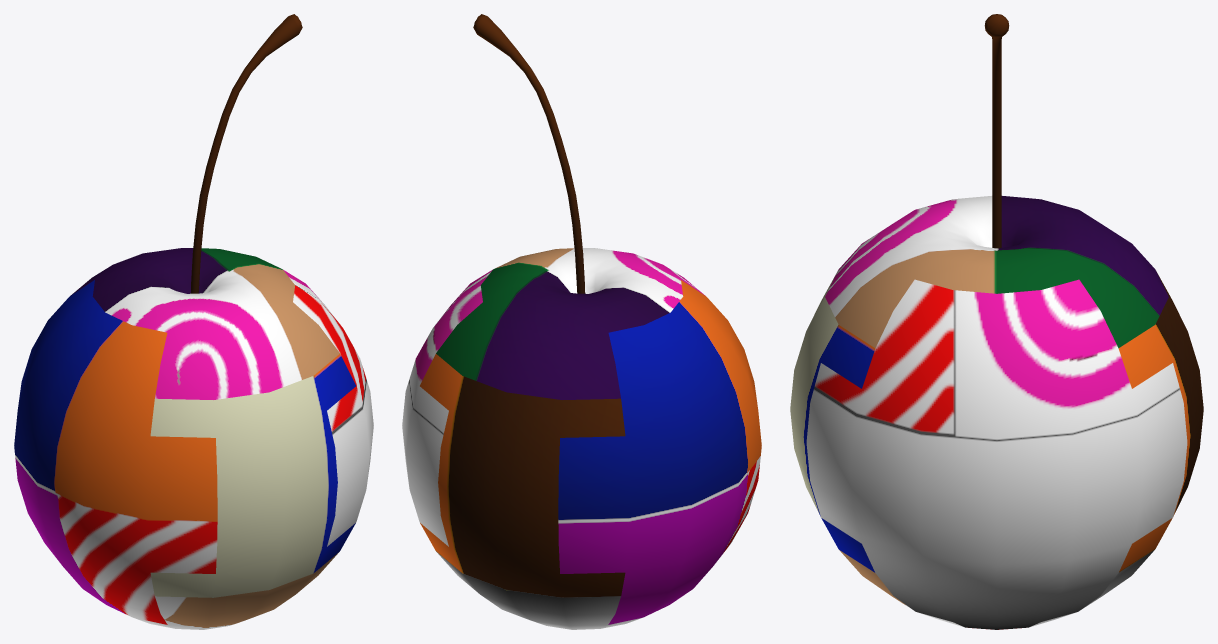
The model's file is big cherry hp.fbx.
3 views of the same model, side by side, from view 1: azimuth 30°, elevation 25°; view 2: azimuth 150°, elevation 25°; view 3: azimuth 270°, elevation 25° (orthographic). The views are drawn at different scales.
Parts seen in each view (by area): view 1: ciliegia_big_hp, pistillo_hp; view 2: ciliegia_big_hp, pistillo_hp; view 3: ciliegia_big_hp, pistillo_hp.
Boxes of the visible parts, x1,y1,x2,y2 form: ciliegia_big_hp: [14, 248, 373, 629]; pistillo_hp: [190, 14, 302, 293]; ciliegia_big_hp: [402, 248, 761, 629]; pistillo_hp: [473, 14, 585, 293]; ciliegia_big_hp: [790, 196, 1203, 629]; pistillo_hp: [984, 14, 1009, 248].
Size of the model in its own units: 1.12 by 1.95 by 1.12.
